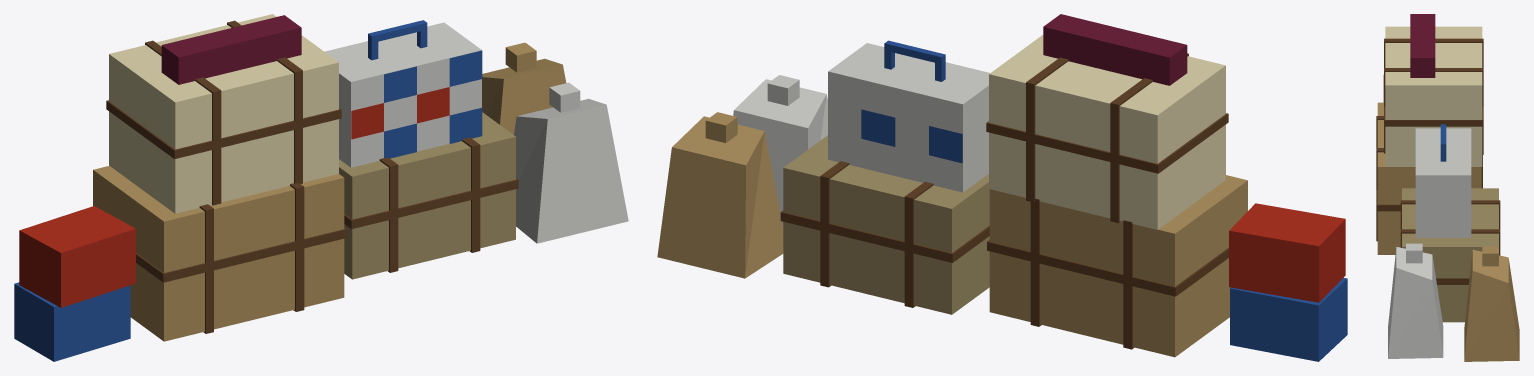
The model's file is prop_bales.cd3e37f94139.glb.
3 renders of one model, left to right at view 1: azimuth 30°, elevation 25°; view 2: azimuth 150°, elevation 25°; view 3: azimuth 270°, elevation 25°, orthographic. The views are drawn at different scales.
Parts seen in each view (by area): view 1: body; view 2: body; view 3: body.
Boxes of the visible parts, box(x1,y1,x2,y2) form: body: box(14, 14, 628, 361); body: box(657, 14, 1347, 361); body: box(1376, 14, 1519, 361).
Size of the model in its own units: 3.6 by 1.52 by 1.03.
